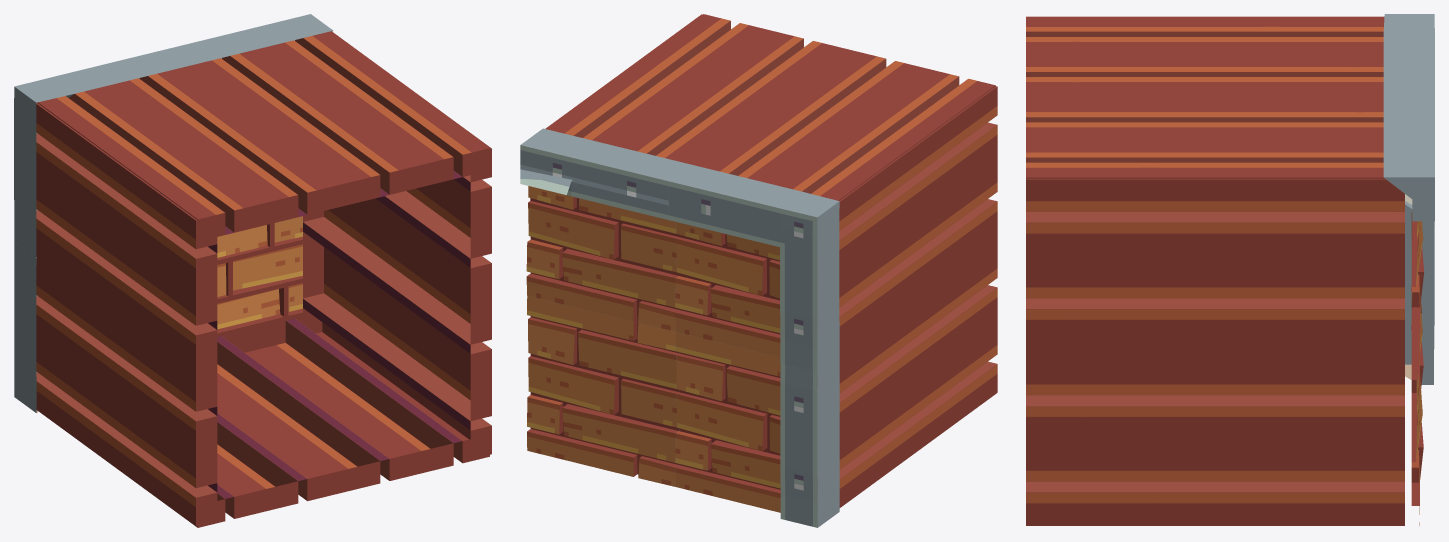
Rendered from CornerTRKayu.fbx.
The picture shows the model from 3 angles, left to right: view 1: azimuth 30°, elevation 25°; view 2: azimuth 150°, elevation 25°; view 3: azimuth 270°, elevation 25°; orthographic projection. The views are drawn at different scales.
Parts seen in each view (by area): view 1: CornerTRKayu; view 2: CornerTRKayu; view 3: CornerTRKayu.
Part boxes in pixels (x1,y1,x2,y2): CornerTRKayu: [14, 14, 491, 527]; CornerTRKayu: [520, 14, 997, 527]; CornerTRKayu: [1026, 14, 1434, 525].
Size of the model in its own units: 94.83 by 94.81 by 100.
